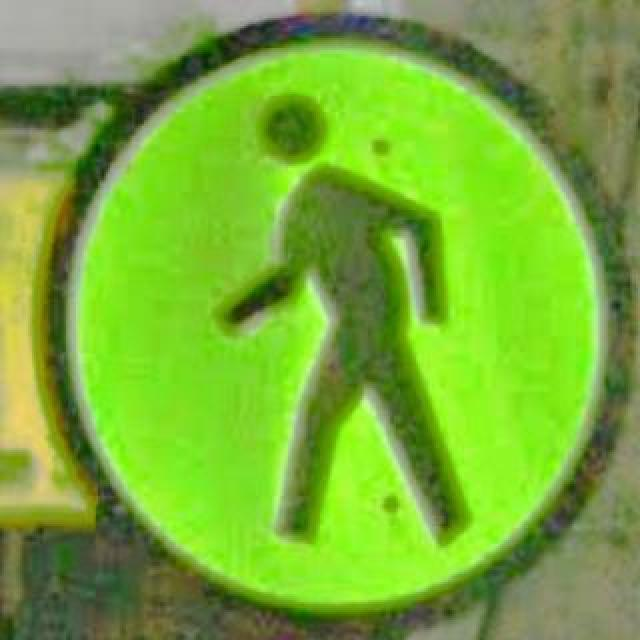pedestrian crossing: (32, 8, 624, 638)
